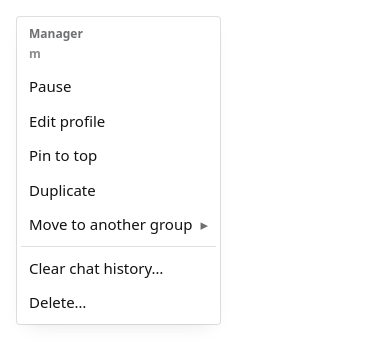
Test: AgentMenu › opens the crews for a keyboard too, and closes when focus leaves them
Focus the button "Move to another group ▸" at (118, 224), box [21, 207, 216, 242]
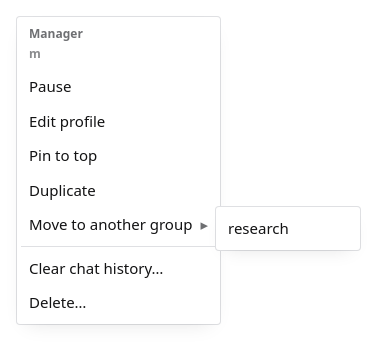
Now the button "research" is shown, box [220, 211, 356, 246]
Leave the button "Move to another group ▸", box [21, 207, 216, 242]
Now the button "research" is shown
Leave the button "research", box [220, 211, 356, 246]
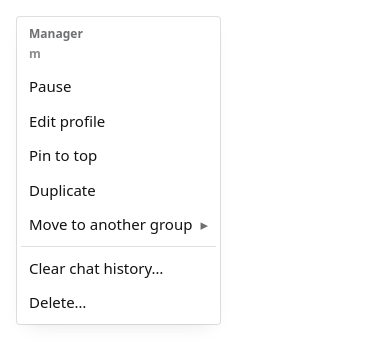
Now the button "research" is gone
